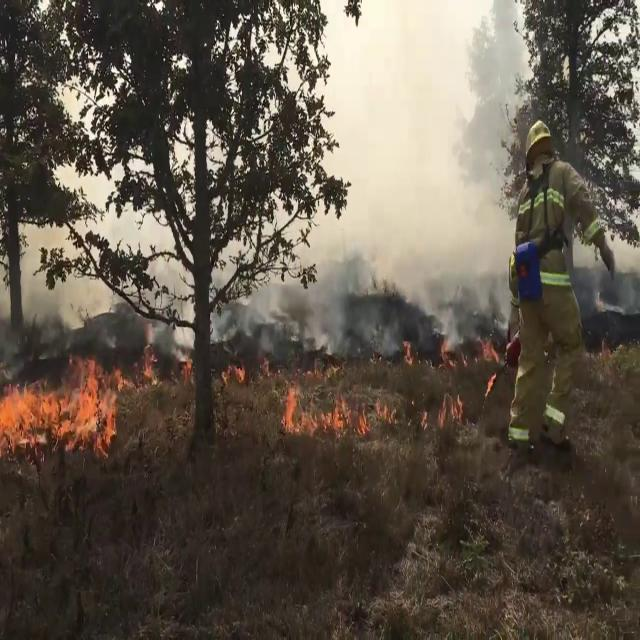Fire: (0, 357, 126, 452), (279, 348, 361, 437)
Smoke: (231, 0, 521, 353)
